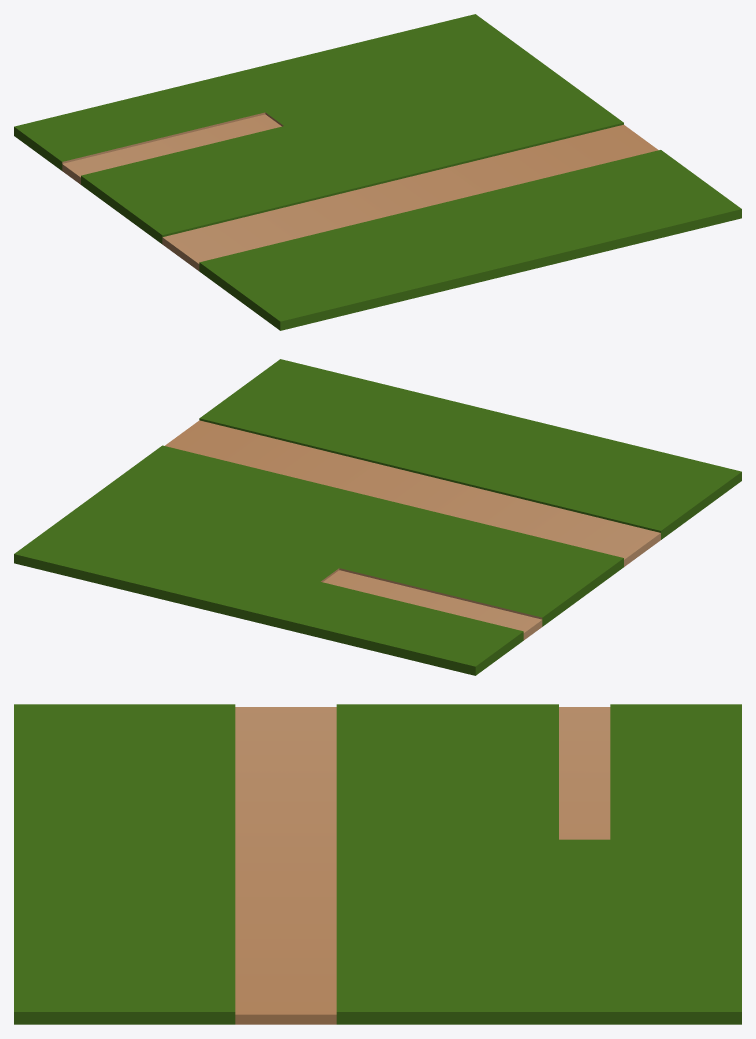
Rendered from garden.fbx.
3 views of the same model, one above another, from view 1: azimuth 30°, elevation 25°; view 2: azimuth 150°, elevation 25°; view 3: azimuth 270°, elevation 25° (orthographic). The views are drawn at different scales.
Parts seen in each view (by area): view 1: Plane.006; view 2: Plane.006; view 3: Plane.006.
Boxes of the visible parts, x1,y1,x2,y2 form: Plane.006: (14,14,741,330); Plane.006: (14,359,741,675); Plane.006: (14,704,741,1024).
Bounding box in the file's own units: 130 × 2.5 × 130.
Materials: 1 (1 with a texture image).
